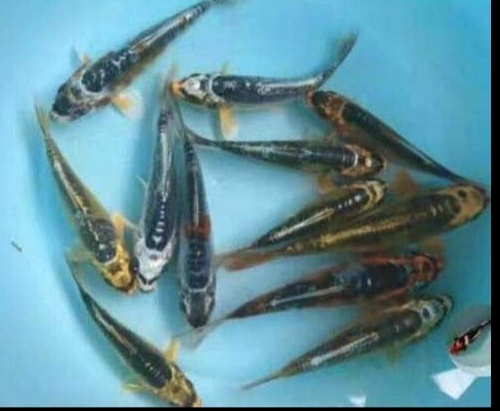fry: (50, 158, 139, 299), (262, 244, 449, 311), (85, 313, 210, 407), (345, 176, 491, 252), (314, 297, 456, 370), (54, 25, 140, 131), (231, 131, 390, 188), (168, 54, 304, 120), (257, 176, 395, 239), (125, 140, 182, 288), (176, 164, 226, 331), (304, 85, 415, 152), (446, 321, 489, 360)
